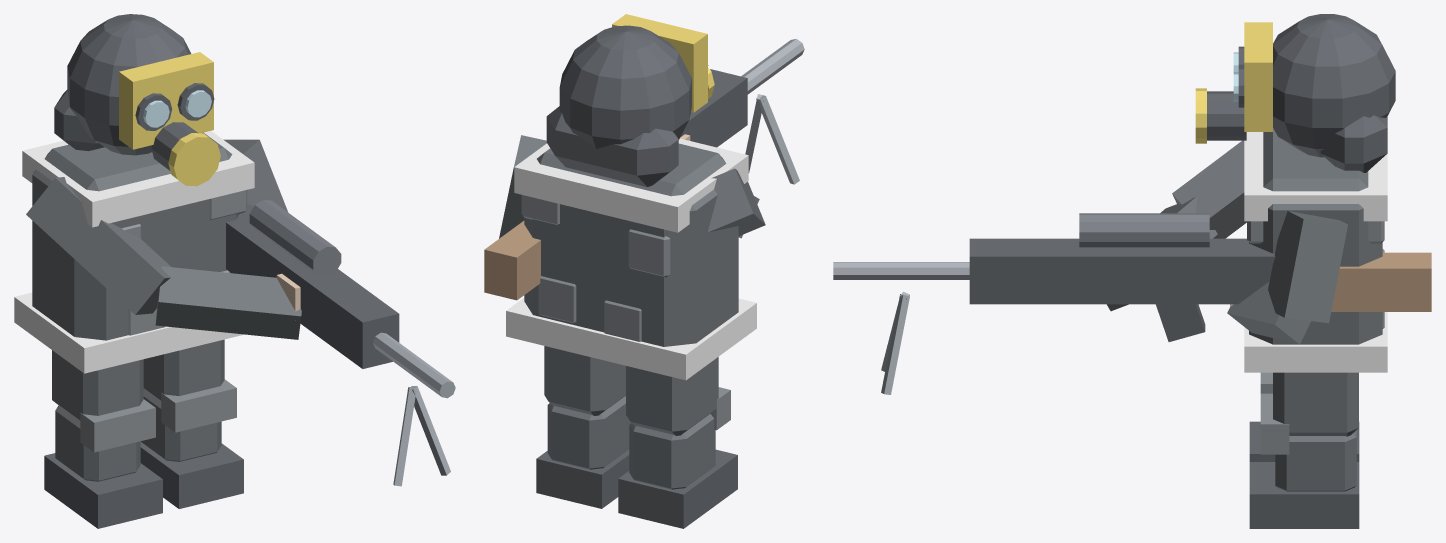
Rendered from sniper@toxico.glb.
The picture shows the model from 3 angles, left to right: view 1: azimuth 30°, elevation 25°; view 2: azimuth 150°, elevation 25°; view 3: azimuth 270°, elevation 25°; orthographic projection. The views are drawn at different scales.
Visible parts, largest first — view 1: main, shinl, shinr, legl, legr; view 2: main, shinl, shinr, legl, legr; view 3: main, shinr, legr, shinl.
Part boxes in pixels (x1,y1,x2,y2): main: [14, 14, 455, 486]; shinl: [44, 399, 162, 528]; shinr: [140, 379, 243, 508]; legl: [52, 350, 143, 420]; legr: [143, 339, 224, 400]; main: [484, 14, 804, 380]; shinl: [618, 387, 737, 528]; shinr: [536, 396, 631, 508]; legl: [626, 357, 718, 435]; legr: [544, 346, 625, 415]; main: [833, 14, 1431, 394]; shinr: [1249, 393, 1359, 528]; legr: [1273, 372, 1358, 436]; shinl: [1249, 372, 1359, 461].
Bounding box in the file's own units: 0.3161 × 0.5462 × 0.6262.
